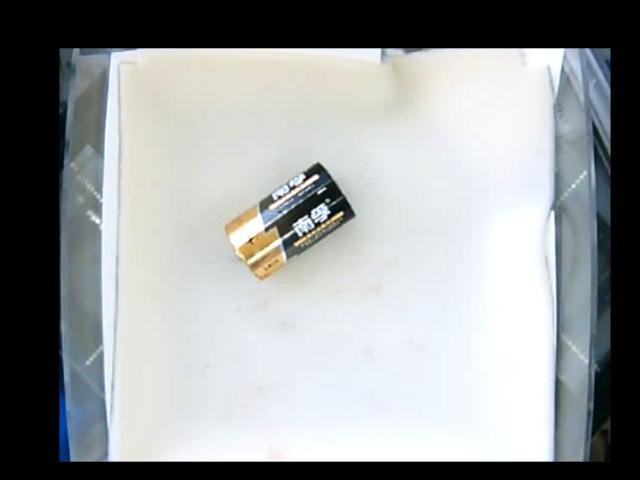Battery: (224, 162, 355, 280)
